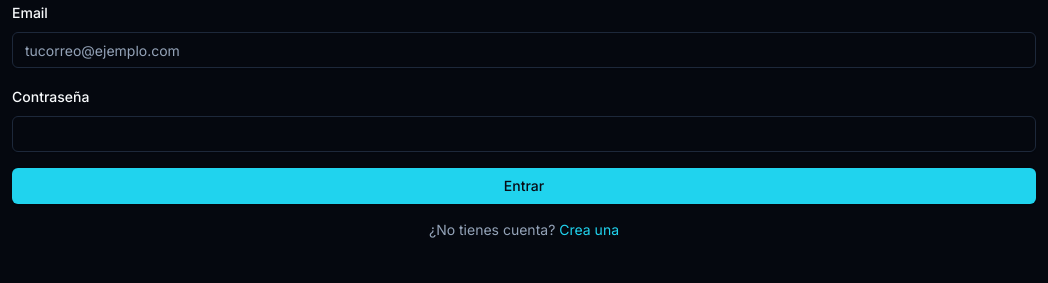
Test: LoginForm › muestra un error inline si la contraseña está vacía
Type "valido@ejemplo.com" into the field labelled "Email".
click(524, 50); type("valido@ejemplo.com")  # box x1=12 y1=32 x2=1036 y2=68
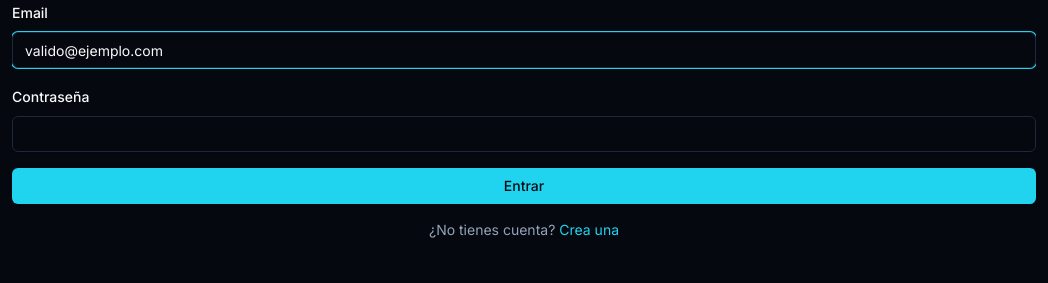
Click the button "Entrar".
click(524, 186)  # box x1=12 y1=168 x2=1036 y2=204
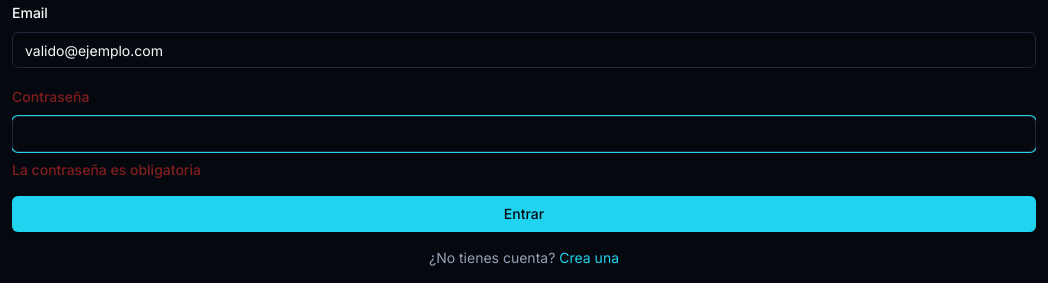
Now the text "La contraseña es obligatoria" is shown, box x1=12 y1=161 x2=201 y2=178
